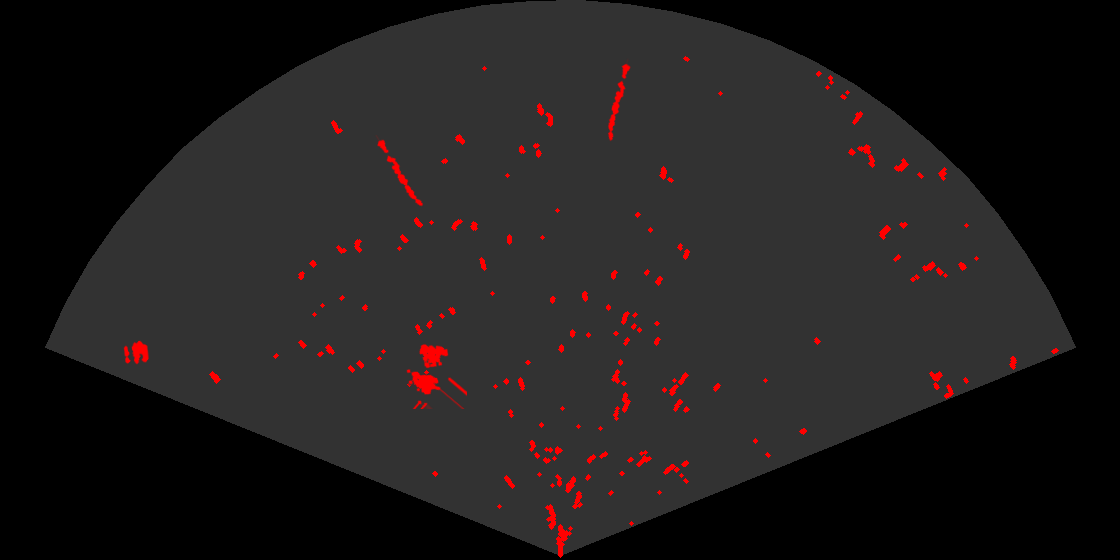ball: (122, 339, 150, 366)
cage: (405, 342, 467, 409)
chain: (374, 135, 425, 208), (606, 58, 632, 142)
